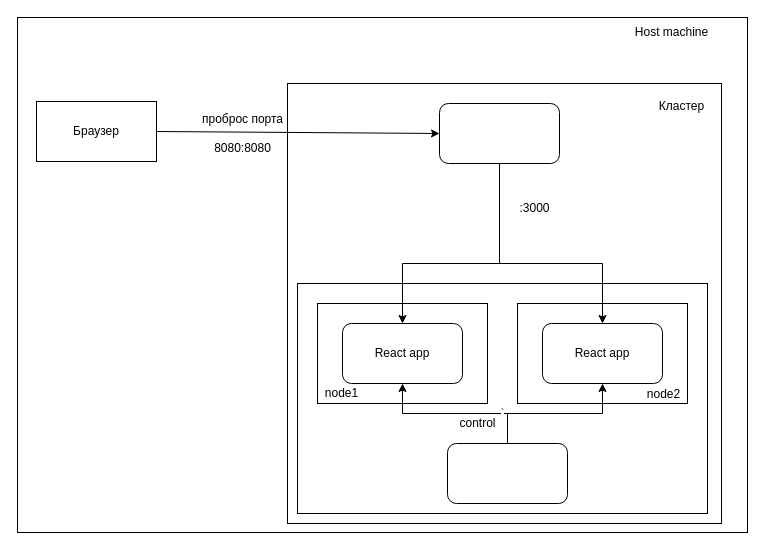
Some shapes in this 765 by 550 pixel diagram are drawn without their labels. Here are the shapes that lost their labels. From the top down, the centre of each, then its label:
the point at 499,133: Service
the point at 507,473: Deployment
